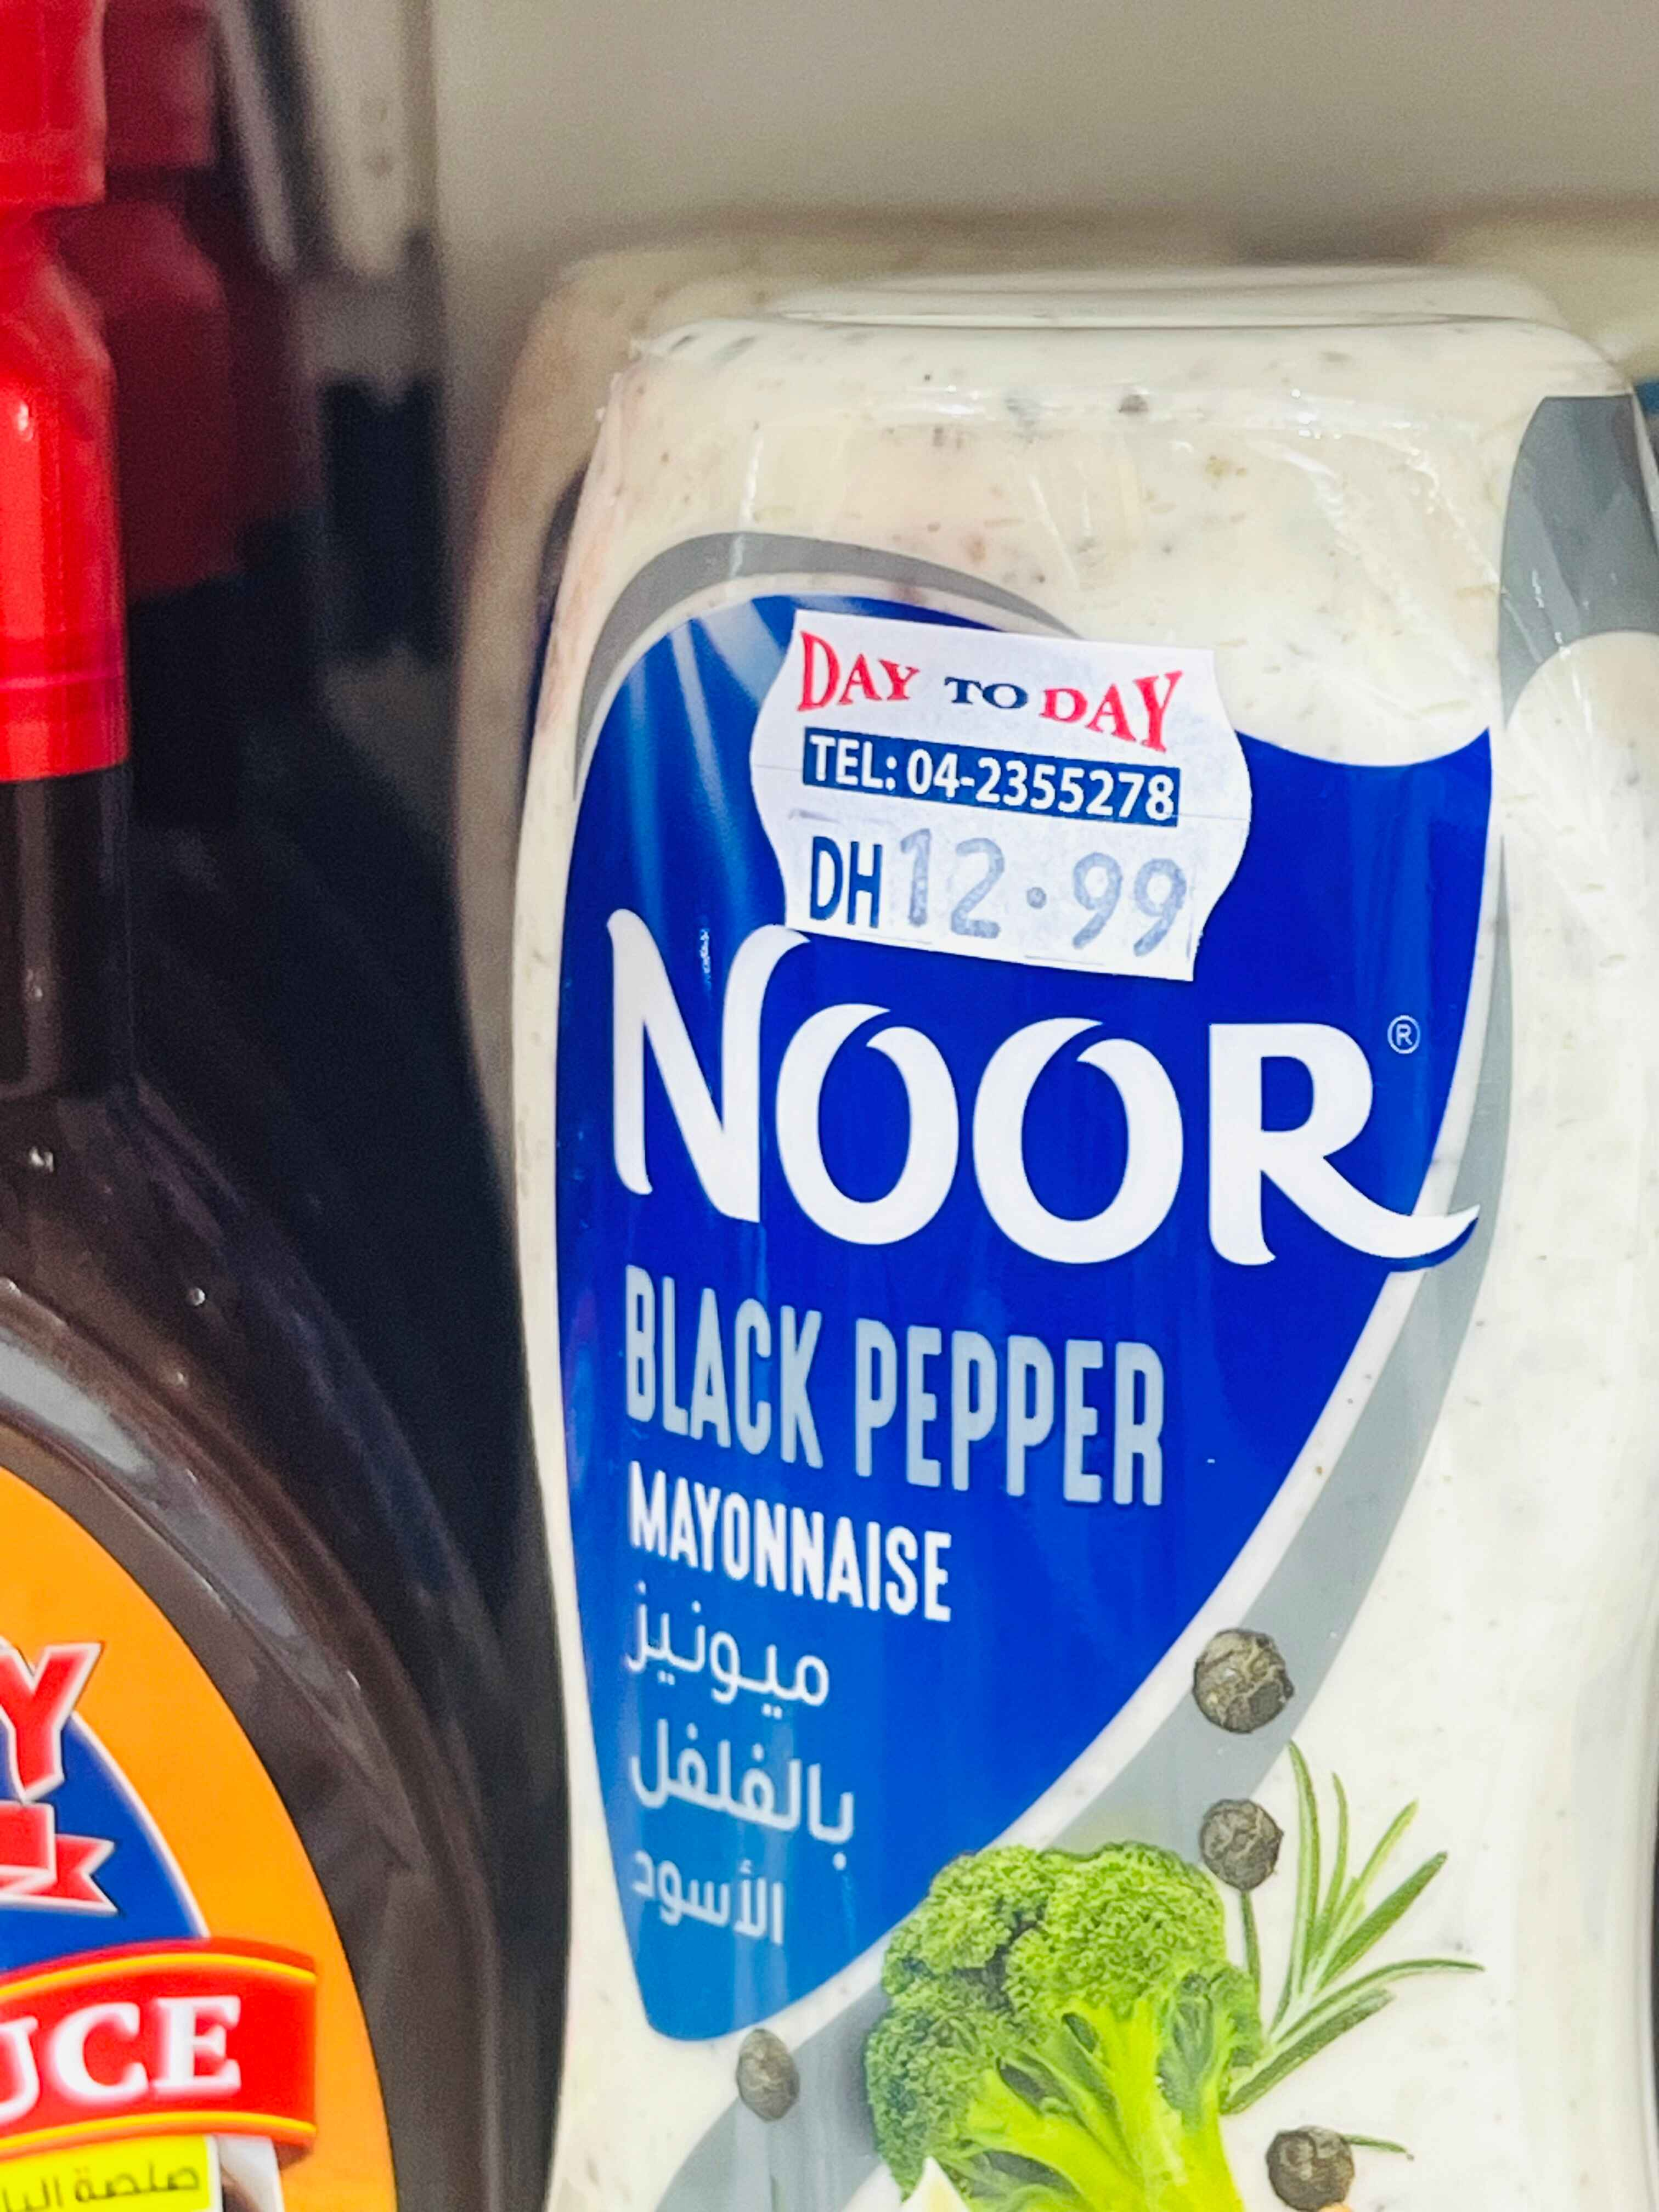PriceTagSmall: (760, 629, 1249, 979)
